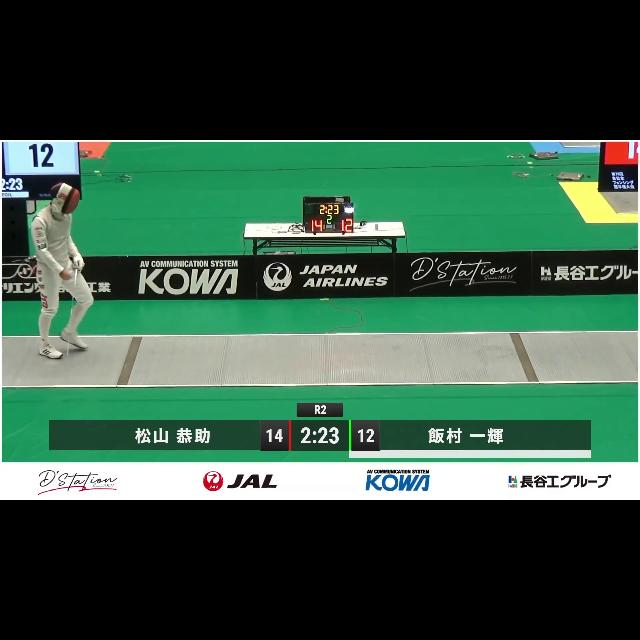blade: (64, 262, 90, 360)
